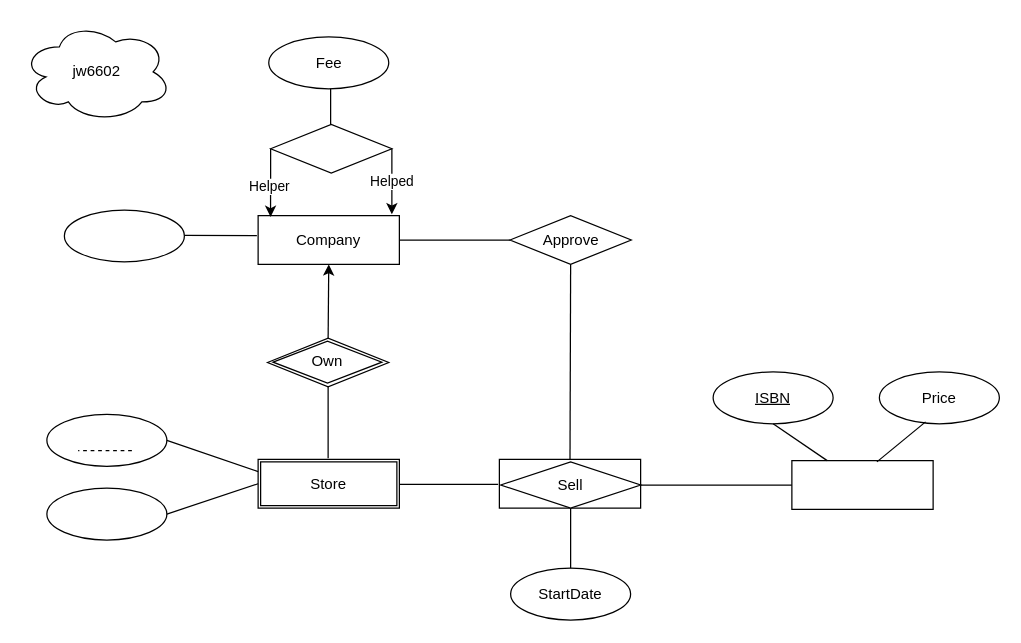
Some shapes in this 1021 by 643 pixel diagram are drawn without their labels. Each missing label, with the centre of its shape:
Book: [862,484]
Help: [330,148]
Number: [106,439]
Size: [106,513]
TIN: [123,235]
